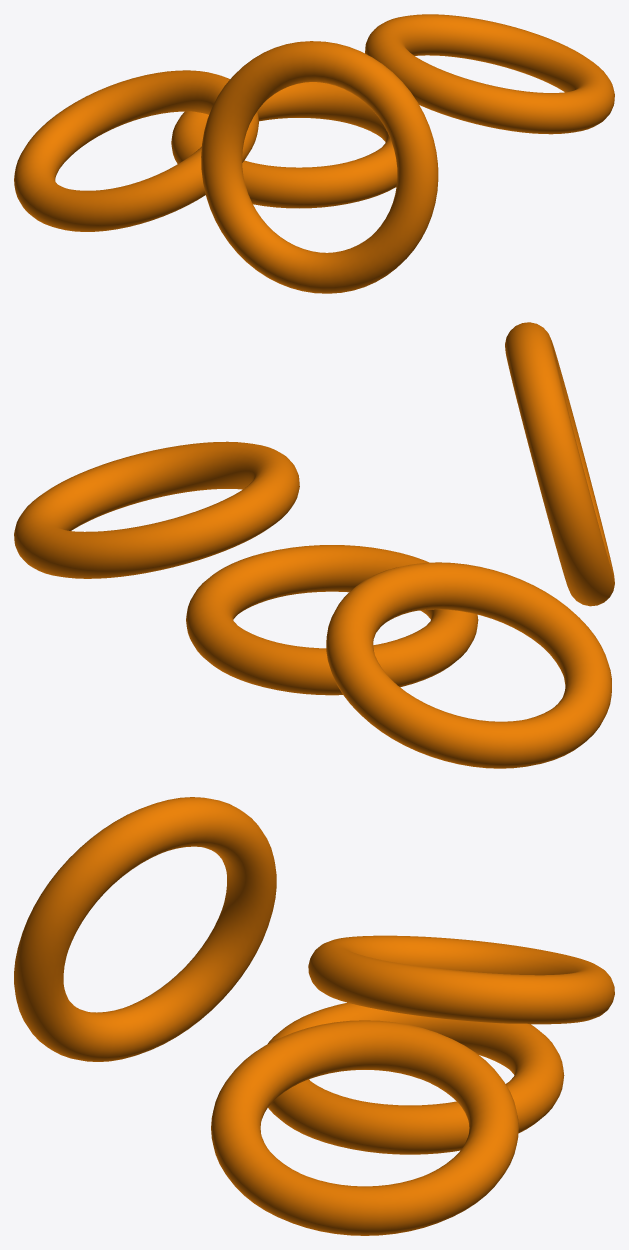
File: Anillos.fbx
The picture shows the model from 3 angles, top to bottom: view 1: azimuth 30°, elevation 25°; view 2: azimuth 150°, elevation 25°; view 3: azimuth 270°, elevation 25°; orthographic projection. The views are drawn at different scales.
Parts seen in each view (by area): view 1: Rosca.003, Rosca.001, Rosca.002, Rosca; view 2: Rosca.002, Rosca.001, Rosca, Rosca.003; view 3: Rosca.001, Rosca.003, Rosca.002, Rosca.
Boxes of the visible parts, <box> form: Rosca.003: <box>201,41,438,293</box>; Rosca.001: <box>365,14,614,134</box>; Rosca.002: <box>14,70,258,231</box>; Rosca: <box>171,82,397,208</box>; Rosca.002: <box>326,562,611,768</box>; Rosca.001: <box>14,441,299,578</box>; Rosca: <box>186,545,478,695</box>; Rosca.003: <box>505,322,614,606</box>; Rosca.001: <box>211,1020,518,1235</box>; Rosca.003: <box>14,797,276,1061</box>; Rosca.002: <box>308,935,614,1024</box>; Rosca: <box>267,1002,564,1154</box>.
Size of the model in its own units: 590 by 246 by 484.
